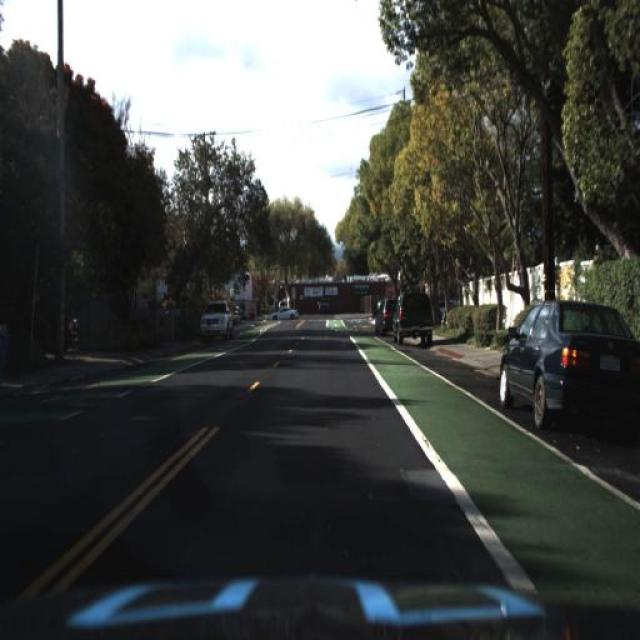car: (498, 288, 638, 427), (393, 293, 436, 348), (193, 293, 234, 341), (368, 289, 398, 340), (51, 304, 81, 354), (269, 300, 299, 326)
